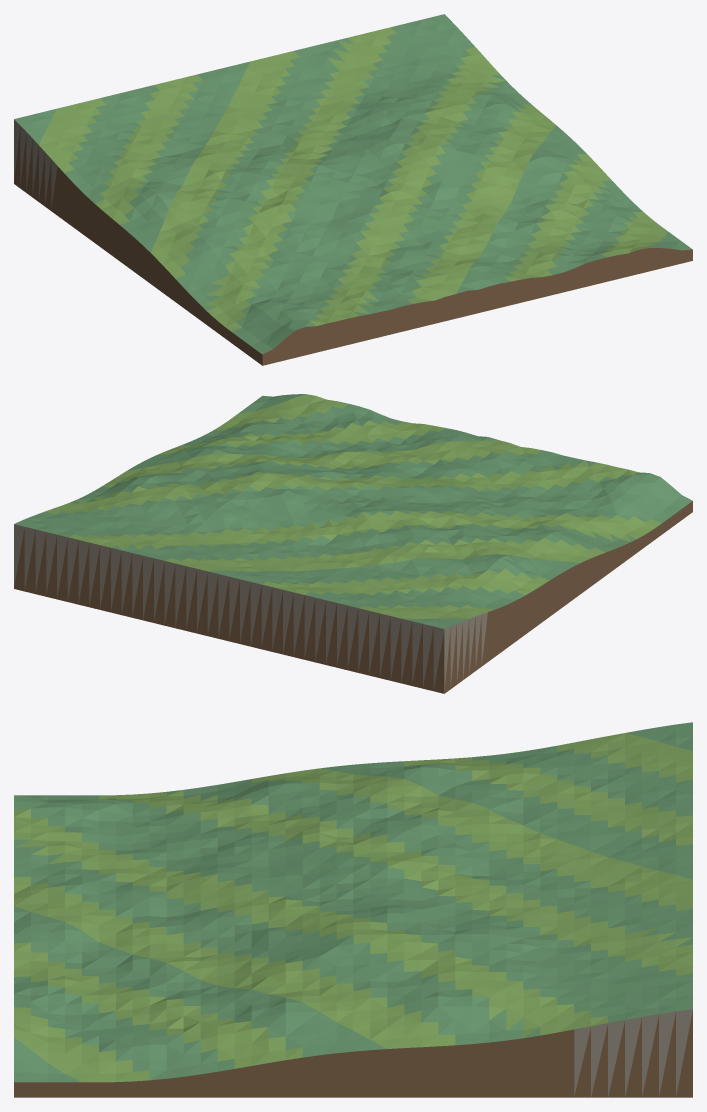
The model's file is TERRAIN_09.obj.
3 views of the same model, one above another, from view 1: azimuth 30°, elevation 25°; view 2: azimuth 150°, elevation 25°; view 3: azimuth 270°, elevation 25° (orthographic). The views are drawn at different scales.
Parts seen in each view (by area): view 1: TERRAIN_09; view 2: TERRAIN_09; view 3: TERRAIN_09.
Boxes of the visible parts, x1=… form: TERRAIN_09: x1=14, y1=14, x2=692, y2=365; TERRAIN_09: x1=14, y1=394, x2=692, y2=693; TERRAIN_09: x1=14, y1=722, x2=692, y2=1097.
Size of the model in its own units: 80 by 11.51 by 80.
